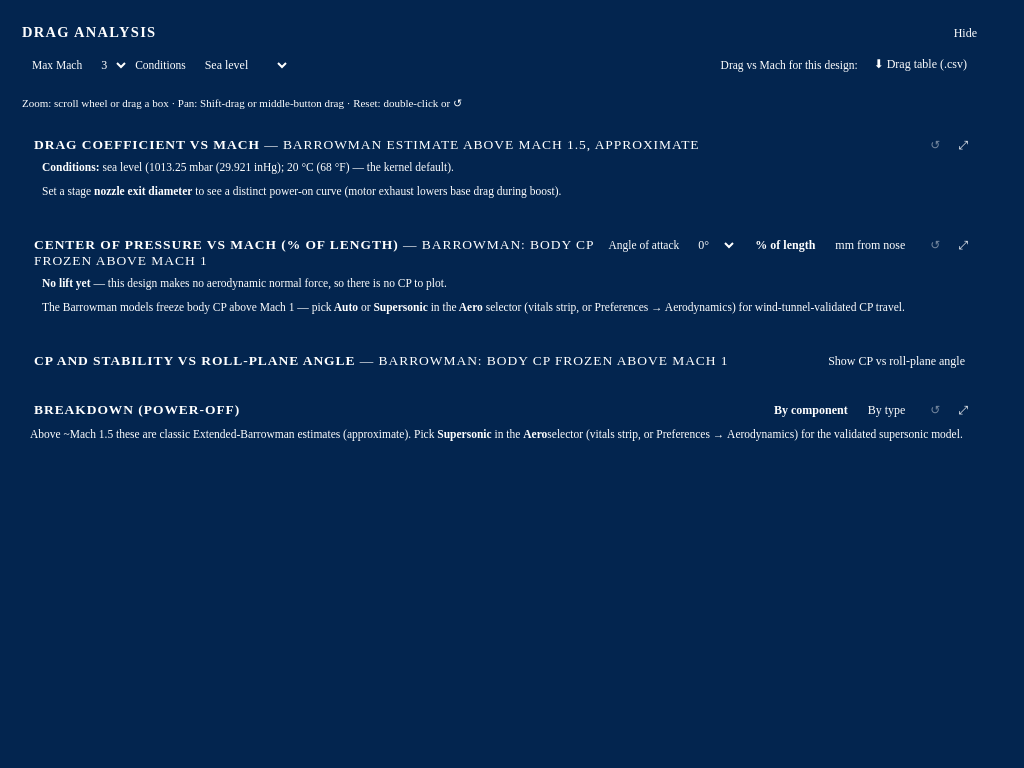
it: N022 explains query failure without showing a margin
Click the button "Show CP vs roll-plane angle".
click(897, 362)  # box [818,350,975,373]
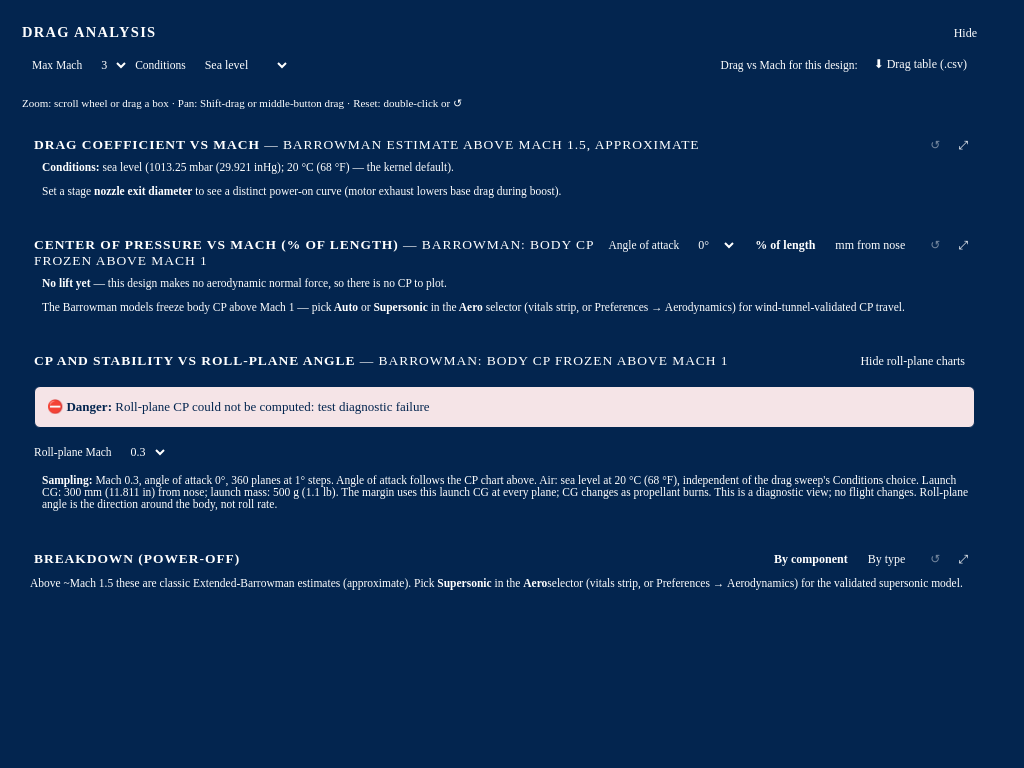
Expected: the message with class "roll-plane-alert" shows "Roll-plane CP could not be computed: test diagnostic failure", [34,386,975,428]
